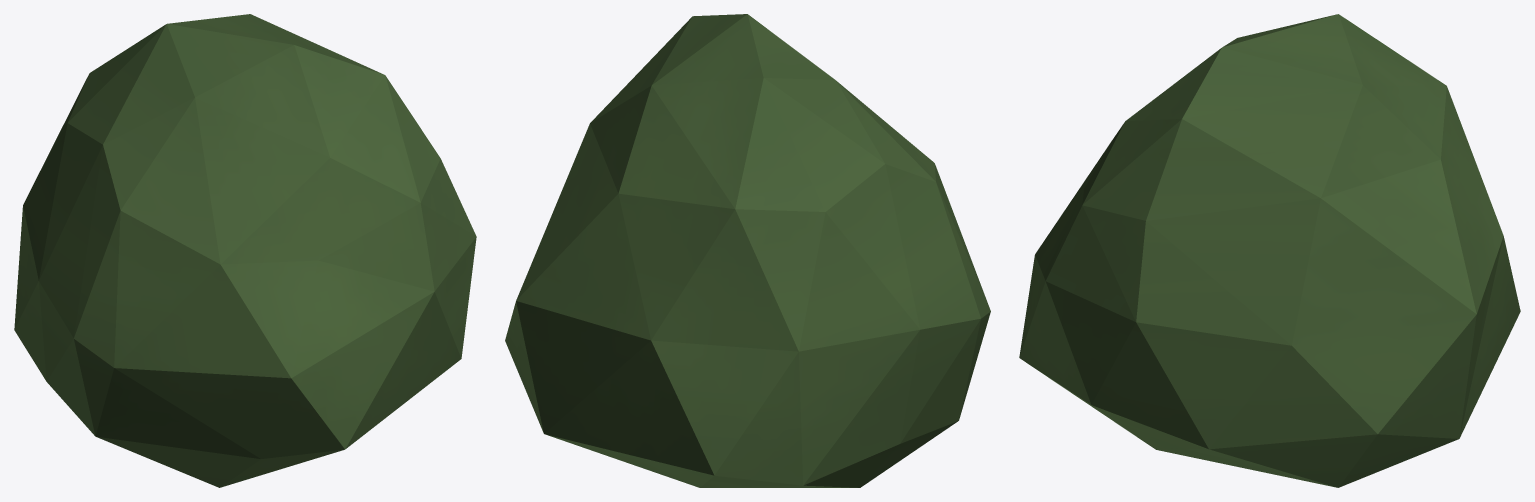
File: bush_B.obj
3 views of the same model, side by side, from view 1: azimuth 30°, elevation 25°; view 2: azimuth 150°, elevation 25°; view 3: azimuth 270°, elevation 25° (orthographic). The views are drawn at different scales.
Visible parts, largest first — view 1: bush_B; view 2: bush_B; view 3: bush_B.
Part boxes in pixels (box(x1,y1,x2,y2)): bush_B: box(14, 14, 476, 487); bush_B: box(505, 14, 990, 487); bush_B: box(1019, 14, 1520, 487).
Bounding box in the file's own units: 1.4 × 1.45 × 1.54.
